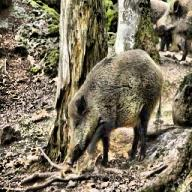boar: (64, 48, 164, 170), (154, 0, 191, 61)
